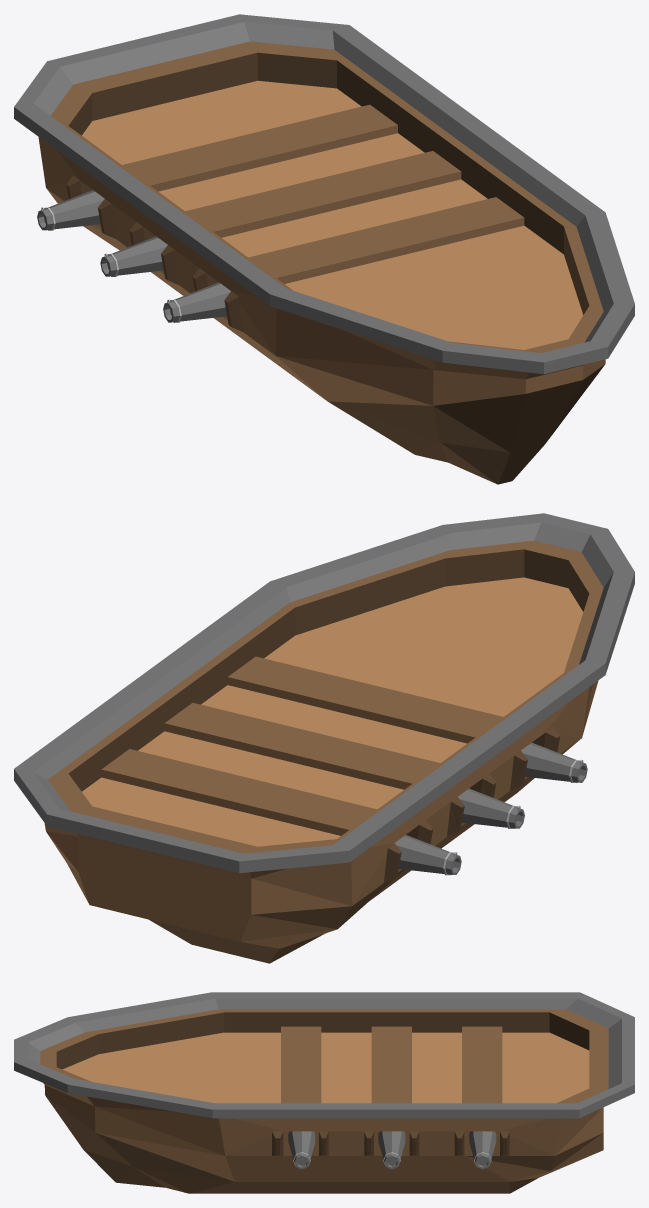
Rendered from Boat.fbx.
3 renders of one model, top to bottom at view 1: azimuth 30°, elevation 25°; view 2: azimuth 150°, elevation 25°; view 3: azimuth 270°, elevation 25°, orthographic. The views are drawn at different scales.
Visible parts, largest first — view 1: Cañonero, Hull_1, cannon_2, cannon_1; view 2: Cañonero, Hull_1, cannon_2, cannon_1; view 3: Cañonero, Hull_1, cannon_2, cannon_1.
Boxes of the visible parts, x1,y1,x2,y2 form: Cañonero: [38, 41, 605, 484]; Hull_1: [14, 14, 634, 374]; cannon_2: [163, 268, 242, 331]; cannon_1: [37, 175, 115, 238]; Cañonero: [44, 540, 603, 963]; Hull_1: [14, 513, 634, 873]; cannon_2: [510, 727, 587, 790]; cannon_1: [384, 820, 461, 882]; Cañonero: [40, 1009, 608, 1193]; Hull_1: [14, 992, 634, 1118]; cannon_2: [272, 1131, 328, 1169]; cannon_1: [454, 1131, 509, 1169].
Bounding box in the file's own units: 4045 × 1681 × 7320.
